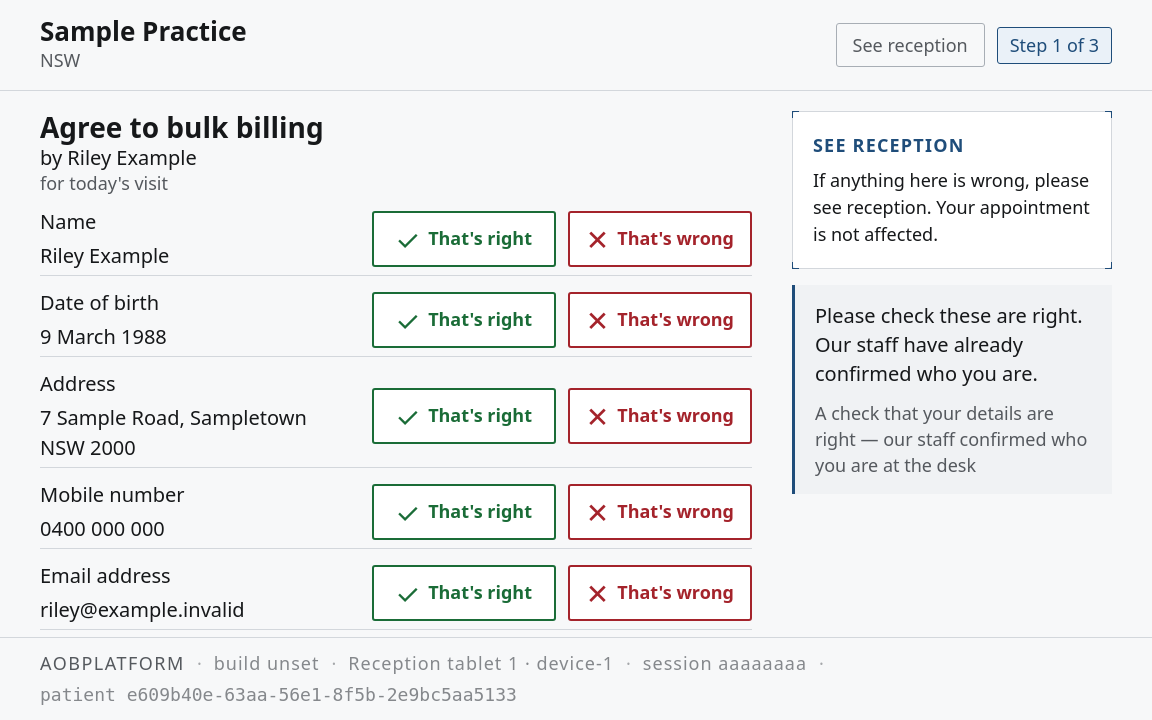
Test: resent_session_replaces_the_one_on_screen › a corrected re-send inside one poll interval replaces K-P1, not appends to it
Expected: the heading "Agree to bulk billing" is shown, [40,108,324,146]
Expected: the text with test id "detail-value-mobile" reads "0400 000 000", [40,515,165,542]
Click the button with test id "detail-tick-name".
click(464, 239)  # box [372,211,556,267]
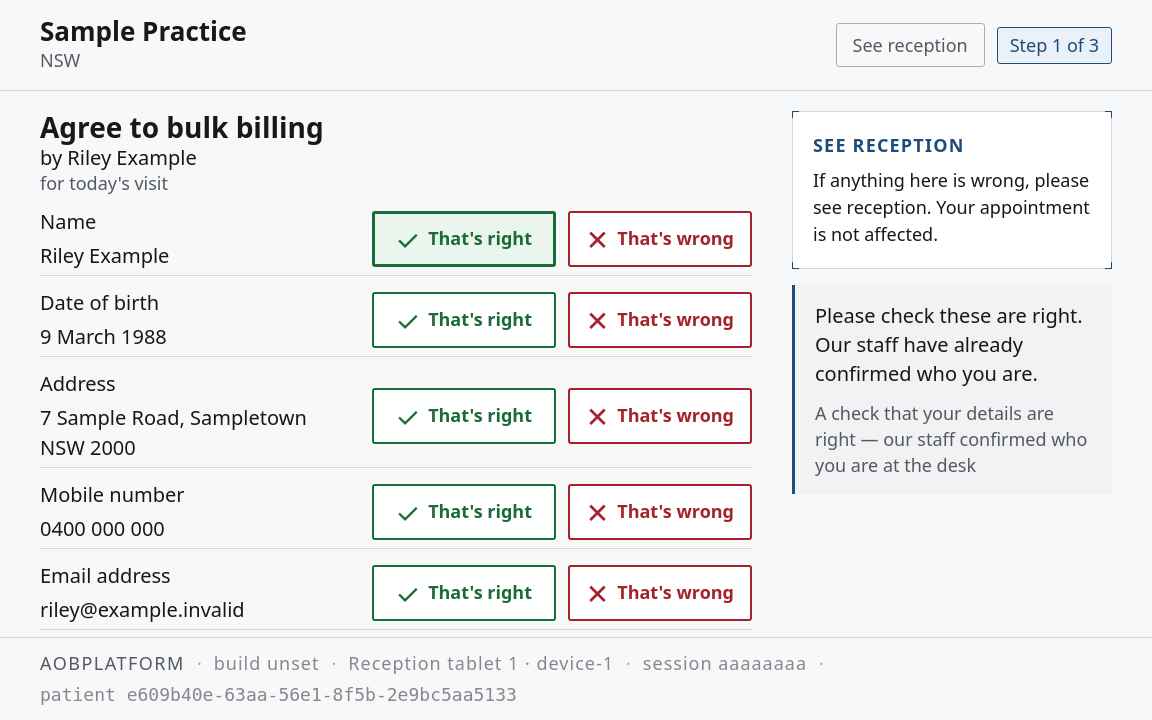
Click the button with test id "detail-tick-date_of_birth".
click(464, 320)  # box [372,292,556,348]
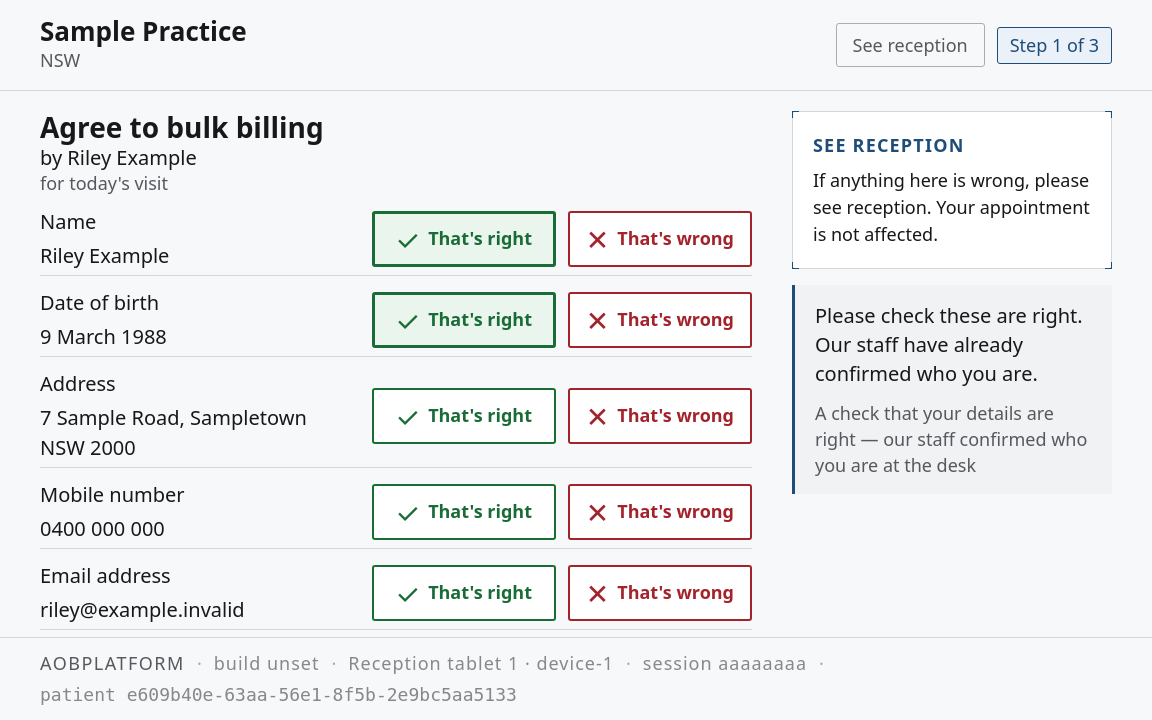
Click the button with test id "detail-tick-address".
click(464, 416)  # box [372,388,556,444]
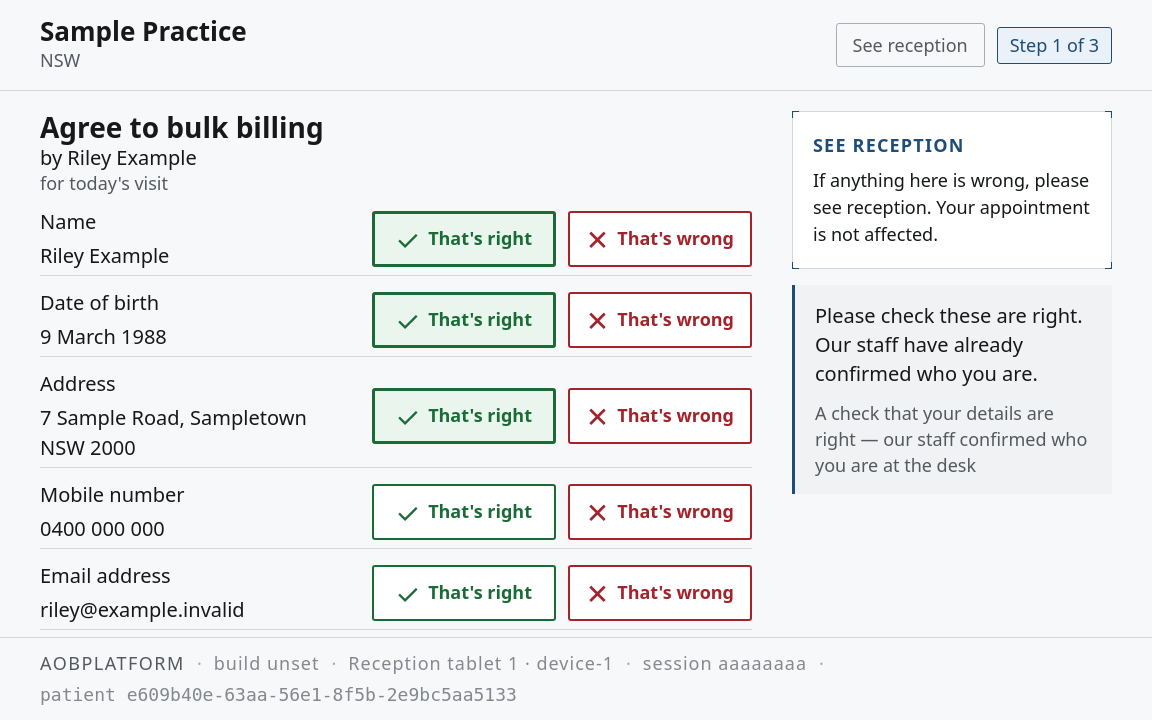
Click the button with test id "detail-cross-mobile".
click(660, 512)  # box [568,484,752,540]
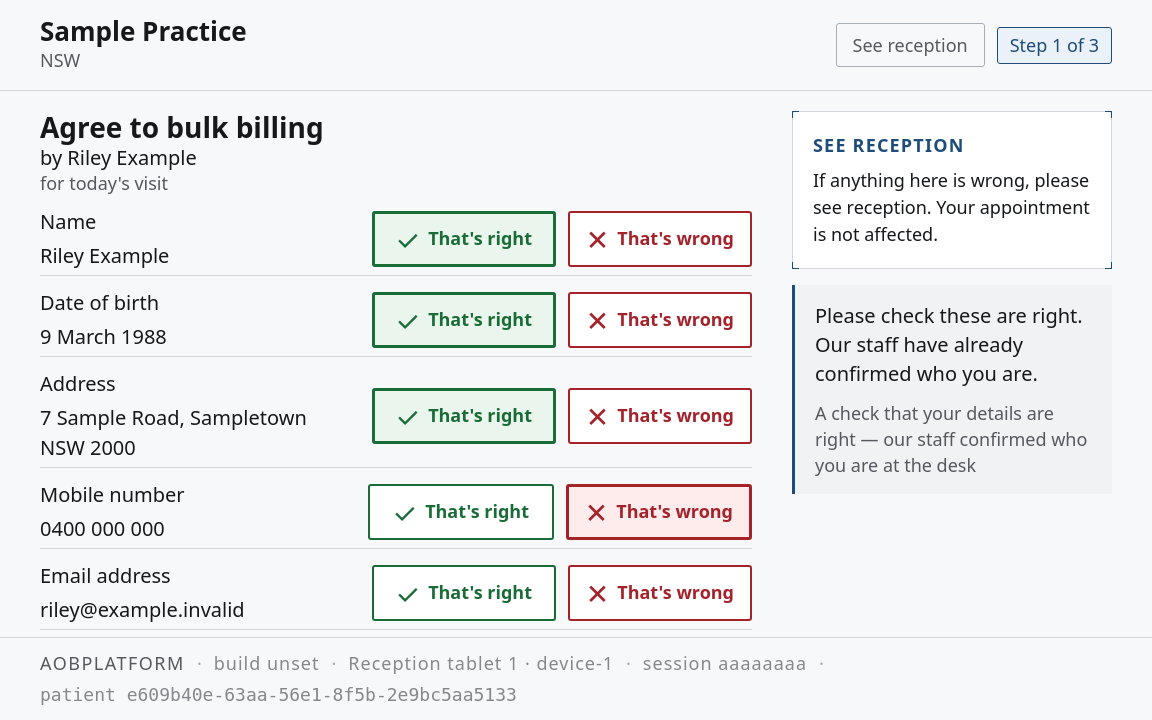
Click the button with test id "detail-tick-email".
click(464, 593)  # box [372,565,556,621]
Wait 10025 ms
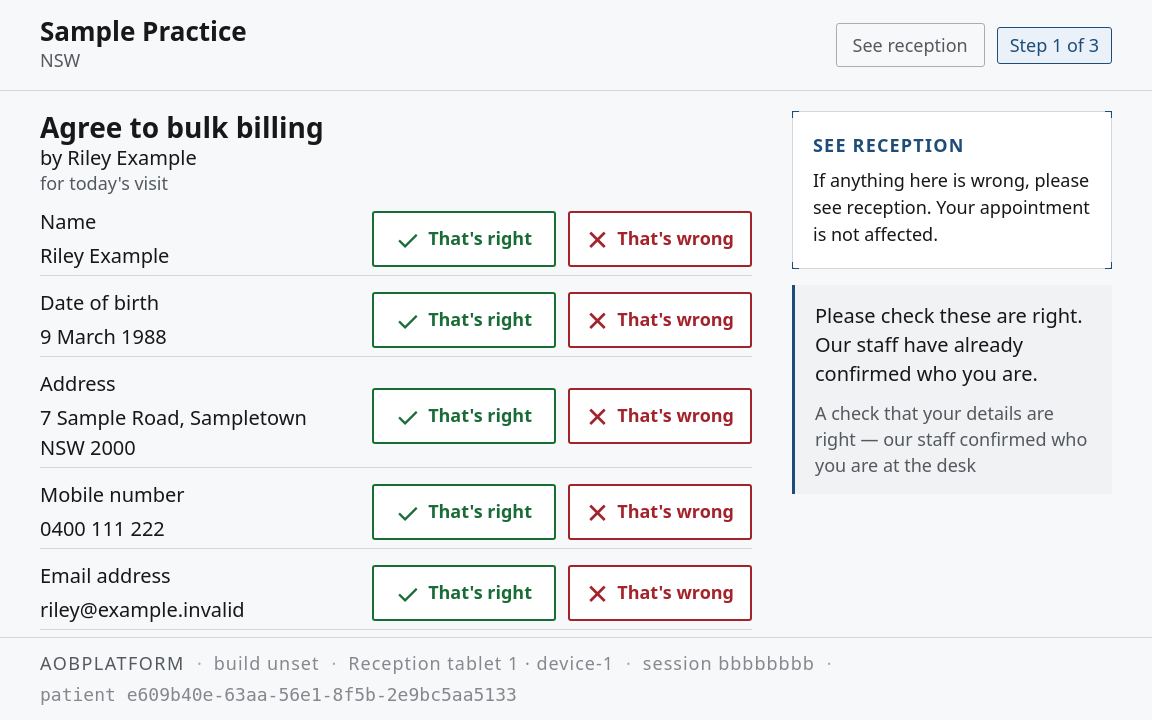
Expected: the heading "Agree to bulk billing" is shown, [40,108,324,146]
Now the text with test id "detail-value-mobile" reads "0400 111 222", box [40,515,165,542]
Now the text "0400 000 000" is gone
